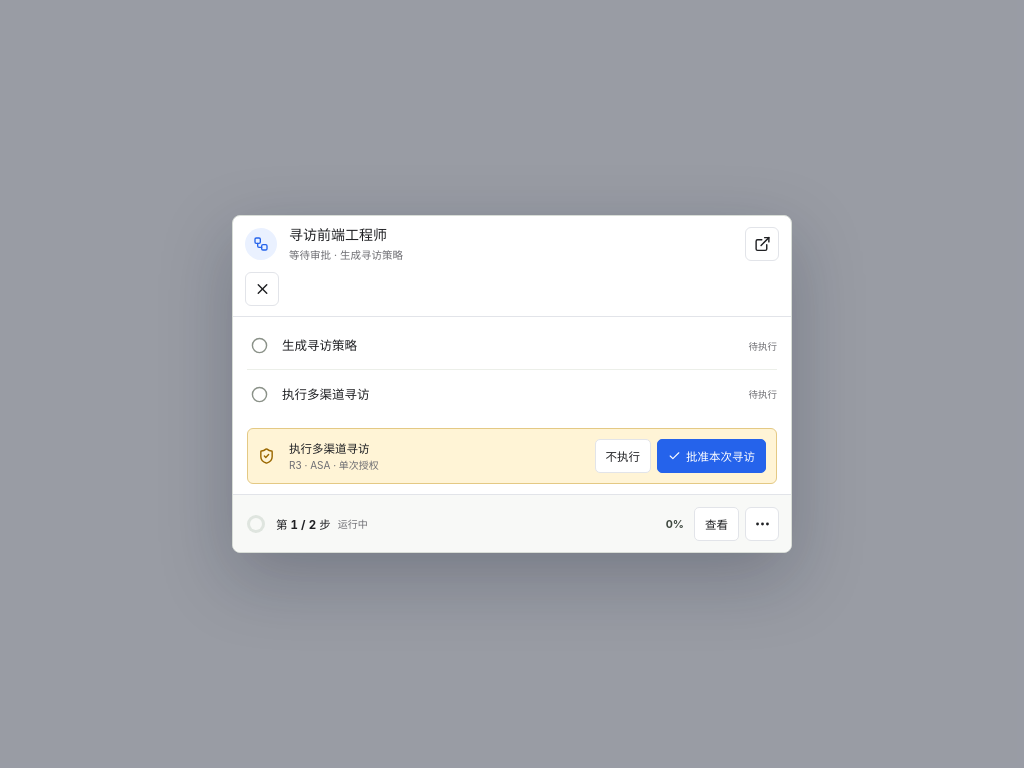
Test: 轻量工作流浮层 › 审批成功不等待悬挂回读并立即移除已消费入口
This screenshot has width=1024, height=768.
Click the button "批准本次寻访" at (712, 456), box [657,439,766,473]
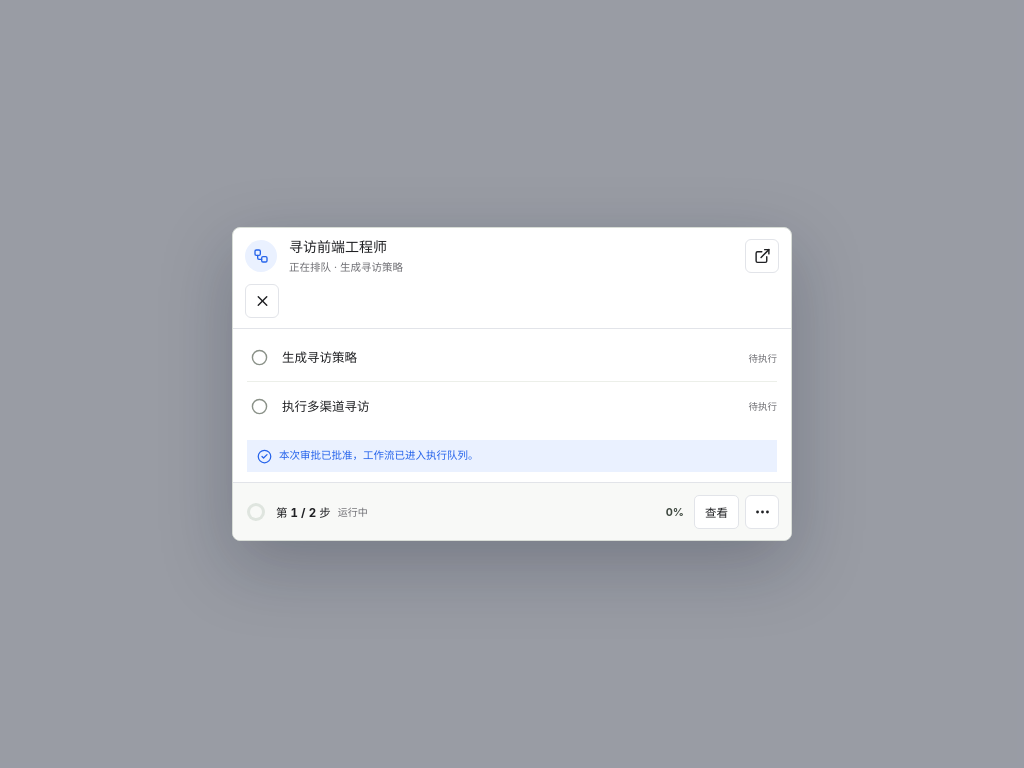
Now the message reads "本次审批已批准，工作流已进入执行队列。", box [279,449,478,462]
Now the element "待审批操作" is gone
